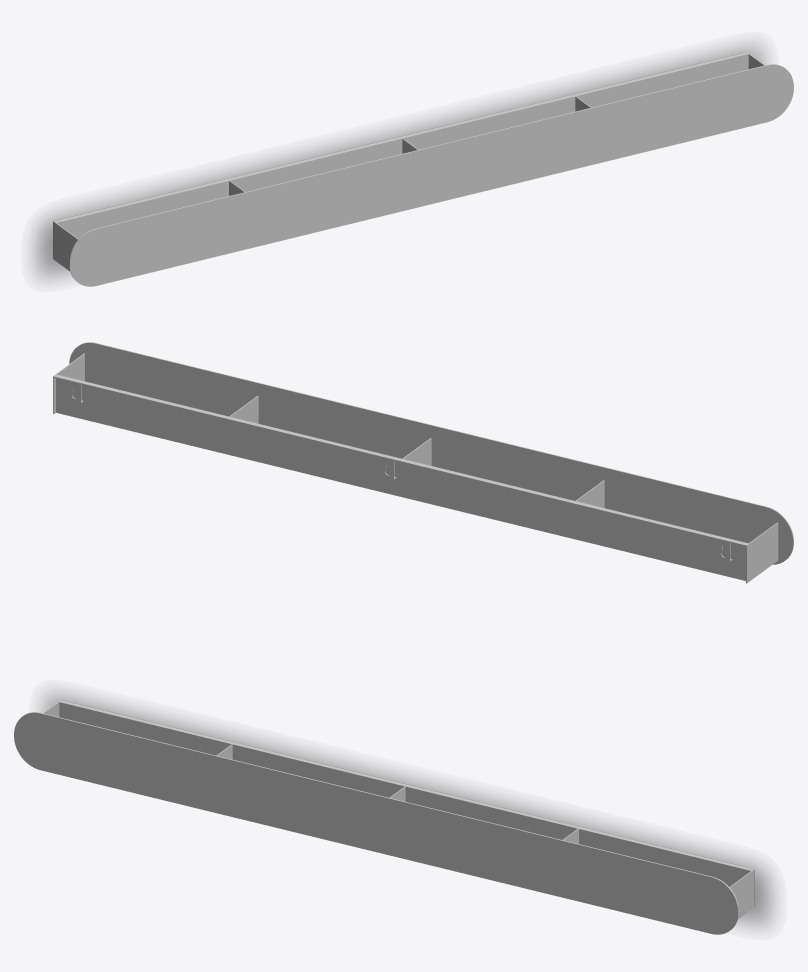
Rendered from round-mono.10248efaab.ar.glb.
3 views of the same model, one above another, from view 1: azimuth 30°, elevation 25°; view 2: azimuth 150°, elevation 25°; view 3: azimuth 330°, elevation 25° (orthographic).
Visible parts, largest first — view 1: NAUO1, object 2; view 2: NAUO1; view 3: NAUO1, object 2.
Boxes of the visible parts, x1,y1,x2,y2 form: NAUO1: (53,52,793,286); object 2: (33,45,766,278); NAUO1: (53,342,793,583); NAUO1: (14,700,754,934); object 2: (41,693,774,926).
Size of the model in its own units: 1.28 by 0.17 by 0.092.
Materials: 2 (1 with a texture image).
